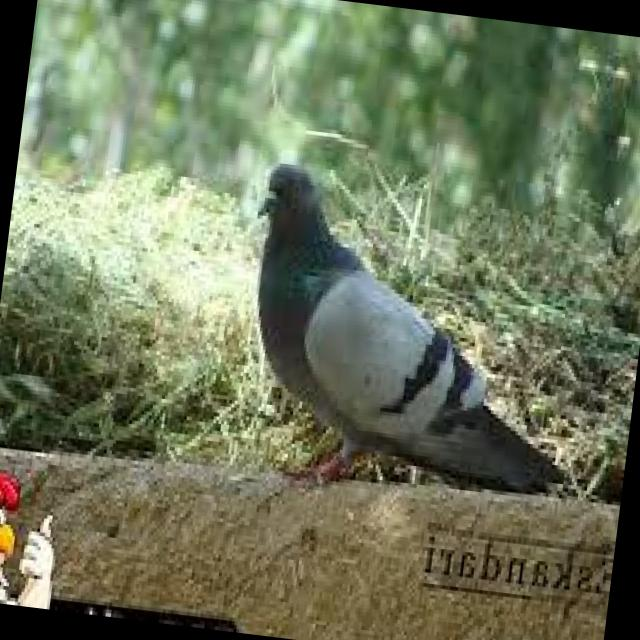bird: (213, 158, 592, 514)
